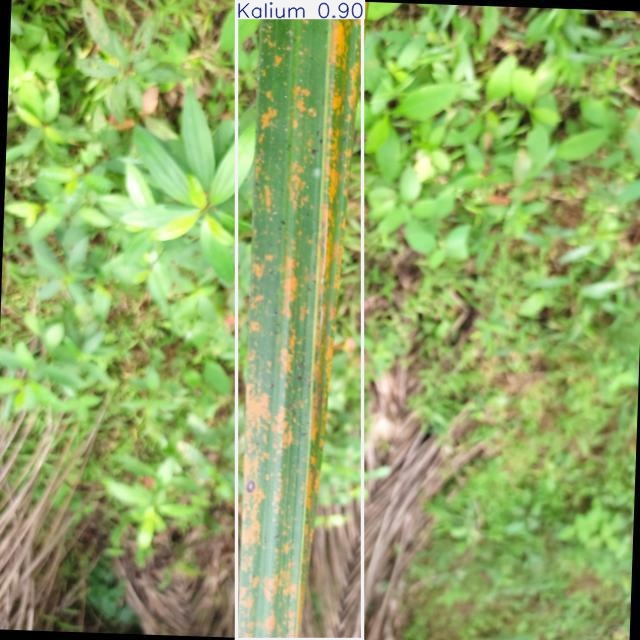Kalium: (237, 1, 363, 640)
